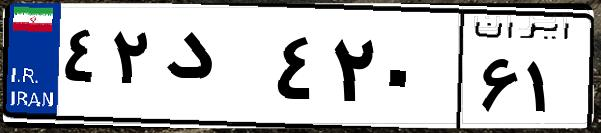0: (385, 28, 445, 110)
1: (525, 38, 570, 115)
2: (330, 28, 385, 110), (110, 28, 158, 98)
4: (270, 28, 330, 110), (57, 26, 110, 100)
6: (475, 38, 525, 113)
د: (158, 20, 270, 120)
